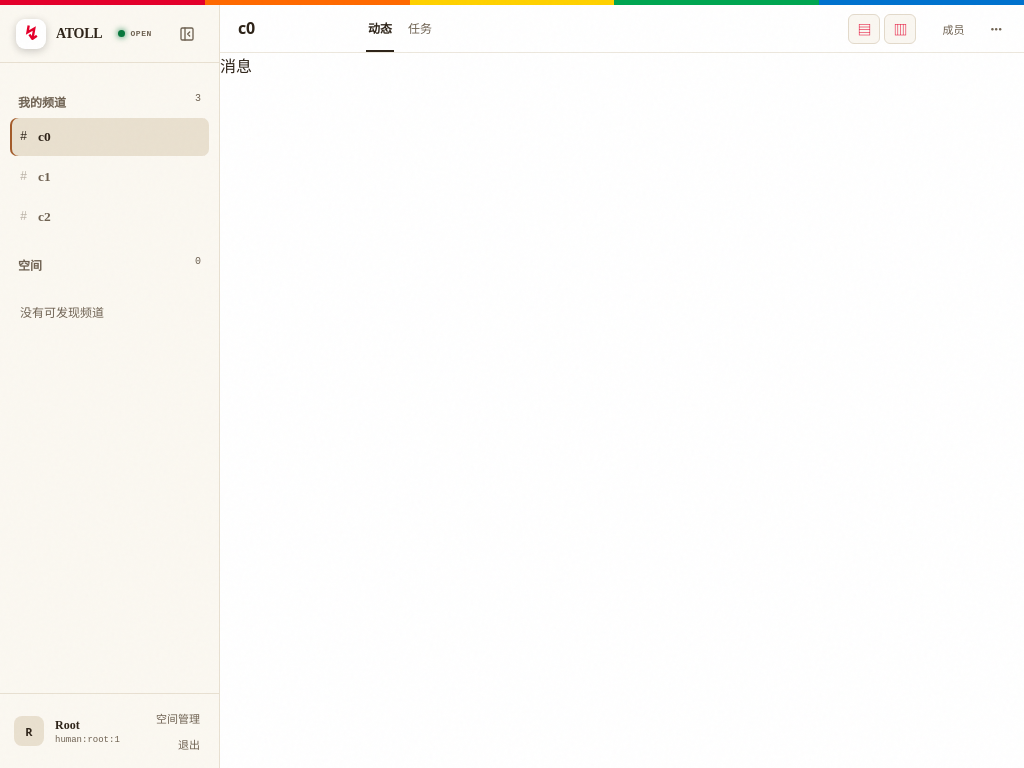
Test: A-D round 18 public owner evidence: target handoff › [AD-097] cancels a pending target when the user rapidly reselects the committed channel
Click the text "c1" at (44, 176), box [38,169,51,184]
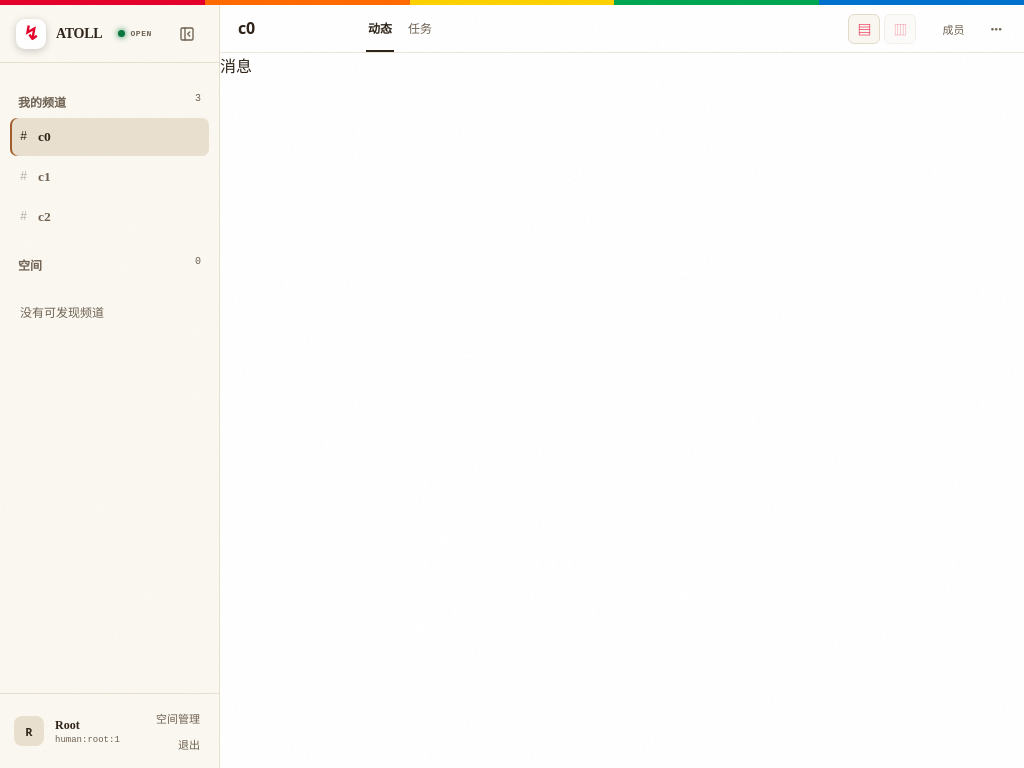
Click the button "# c0" at (110, 137), box [10,118,209,156]
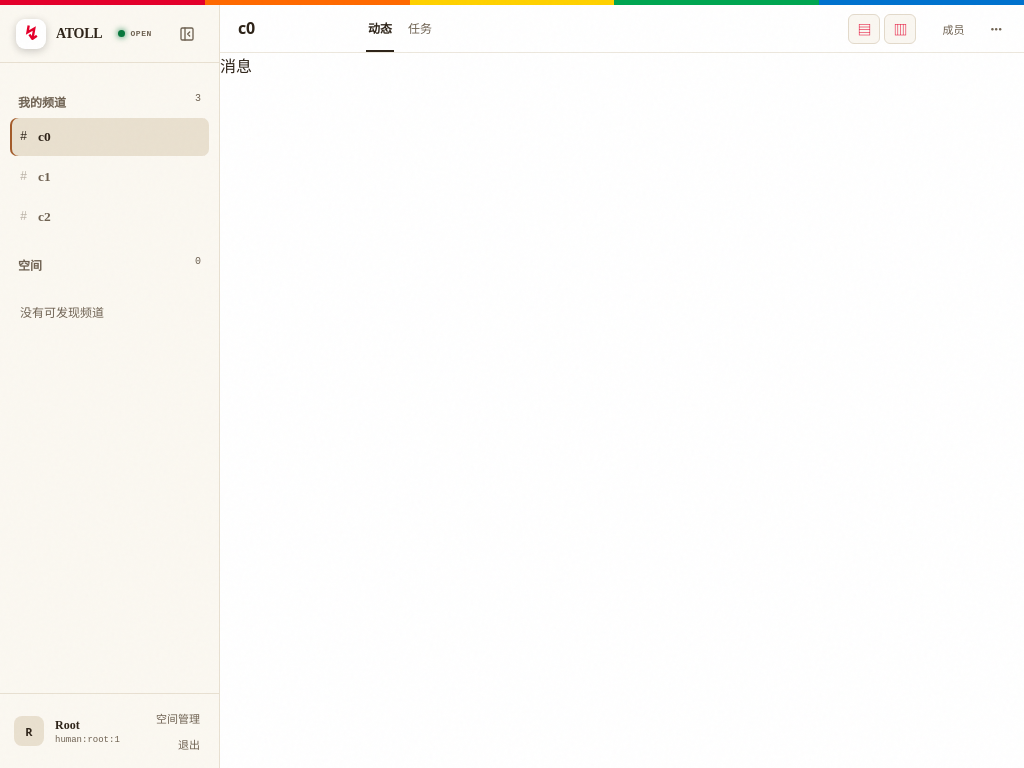
Expected: the button with id "workspace-terminal-toggle" is enabled, [884,14,916,44]
